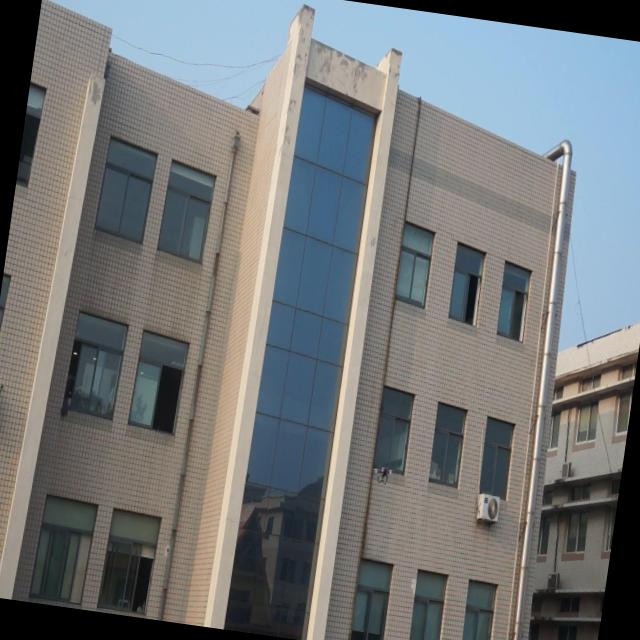drone: (372, 462, 396, 488)
